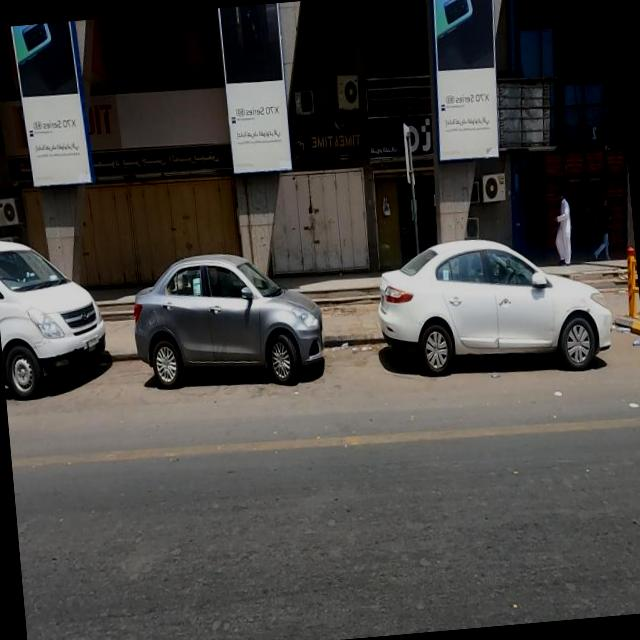debris: (452, 19, 598, 204), (600, 298, 640, 351), (619, 308, 640, 385)
